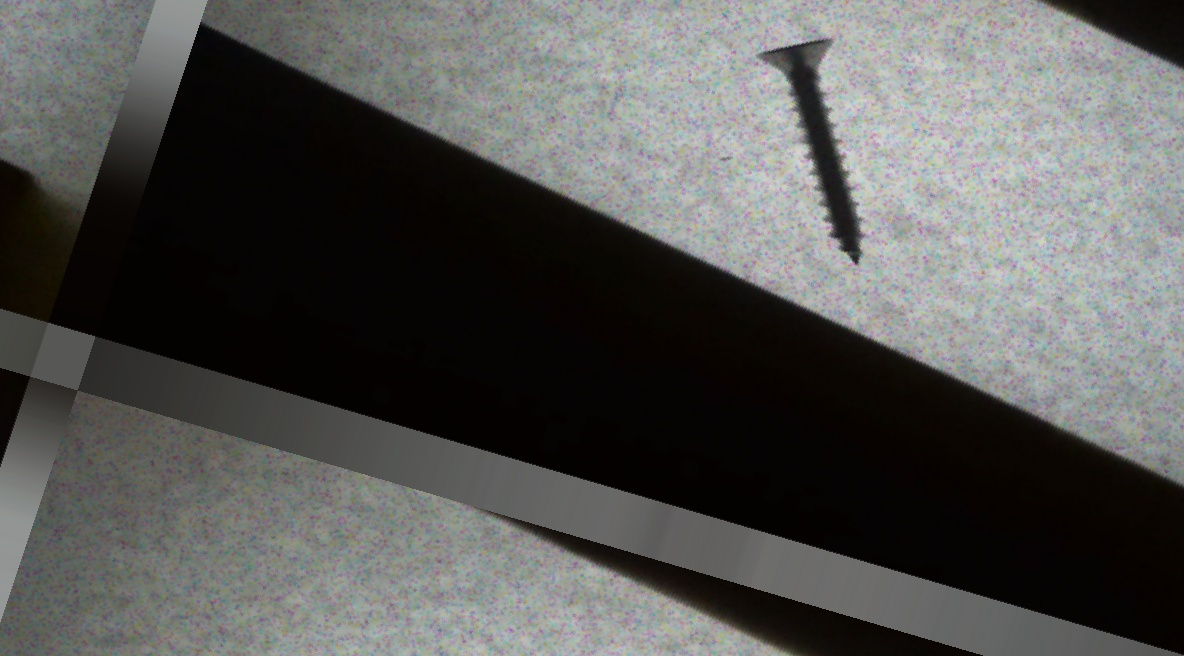S001: (678, 0, 966, 289)
